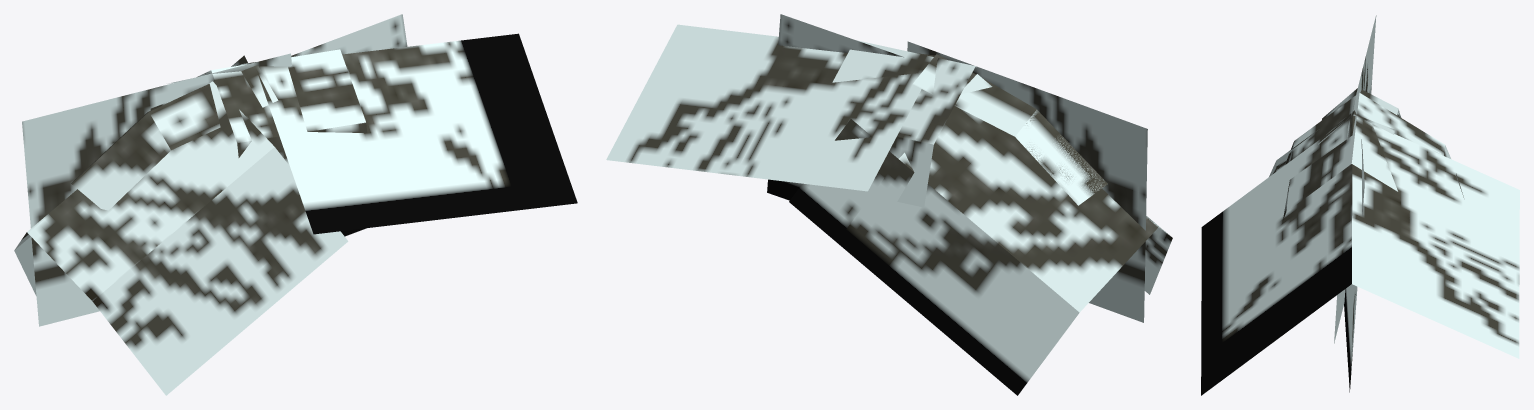
File: spruce_branch_dead.obj
3 renders of one model, left to right at view 1: azimuth 30°, elevation 25°; view 2: azimuth 150°, elevation 25°; view 3: azimuth 270°, elevation 25°, orthographic. The views are drawn at different scales.
Parts seen in each view (by area): view 1: plane, cube; view 2: plane, cube; view 3: plane, cube.
Part boxes in pixels (left/top/right/bottom): plane: left=14, top=33, right=577, bottom=395; cube: left=22, top=14, right=407, bottom=326; plane: left=606, top=24, right=1172, bottom=395; cube: left=767, top=14, right=1147, bottom=322; plane: left=1201, top=88, right=1519, bottom=395; cube: left=1334, top=15, right=1376, bottom=392.
Bounding box in the file's own units: 2.51 × 1.31 × 1.36.
